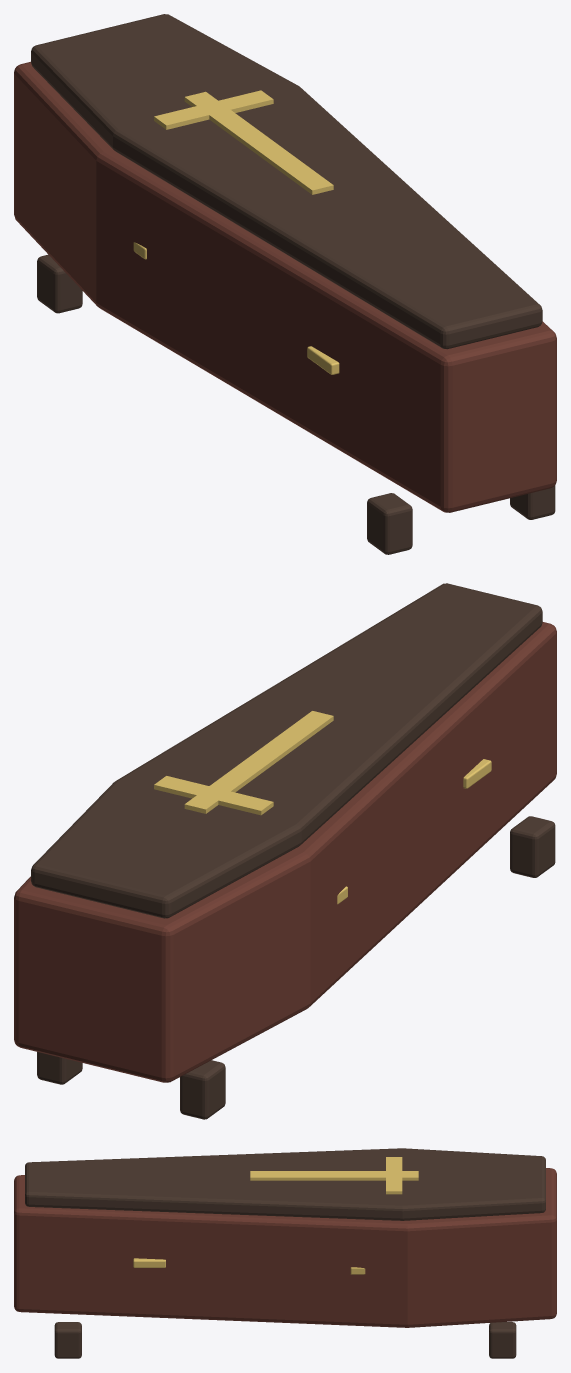
File: coffin.glb
3 views of the same model, one above another, from view 1: azimuth 30°, elevation 25°; view 2: azimuth 150°, elevation 25°; view 3: azimuth 270°, elevation 25° (orthographic). The views are drawn at different scales.
Parts seen in each view (by area): view 1: GD_coffin; view 2: GD_coffin; view 3: GD_coffin.
Boxes of the visible parts, x1,y1,x2,y2 form: GD_coffin: [14, 14, 556, 554]; GD_coffin: [14, 583, 556, 1119]; GD_coffin: [14, 1148, 556, 1358].
Bounding box in the file's own units: 0.6 × 0.642 × 2.
